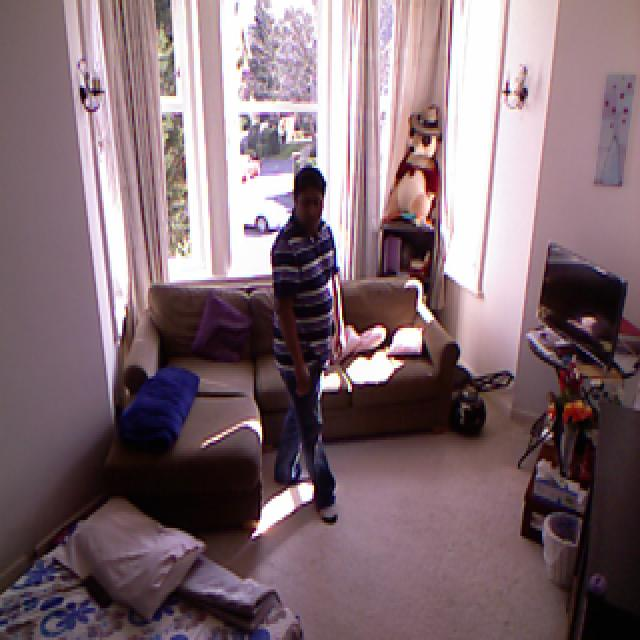standing: (267, 160, 341, 500)
